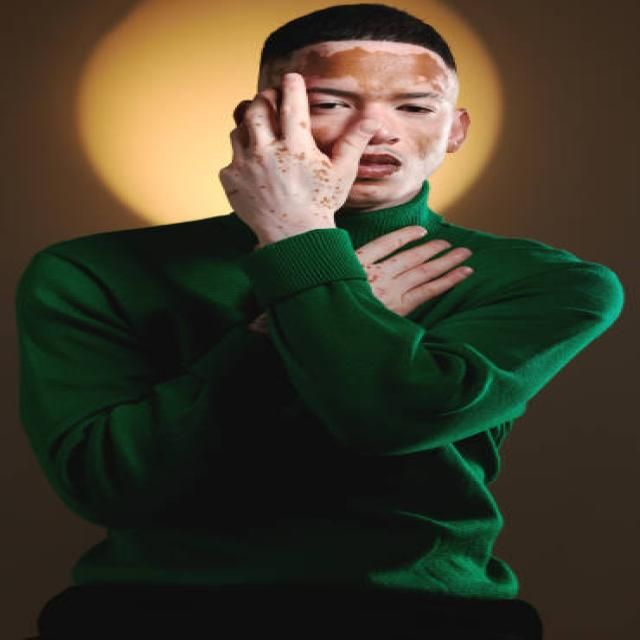pigmentation: (283, 43, 443, 87), (260, 142, 338, 221)
